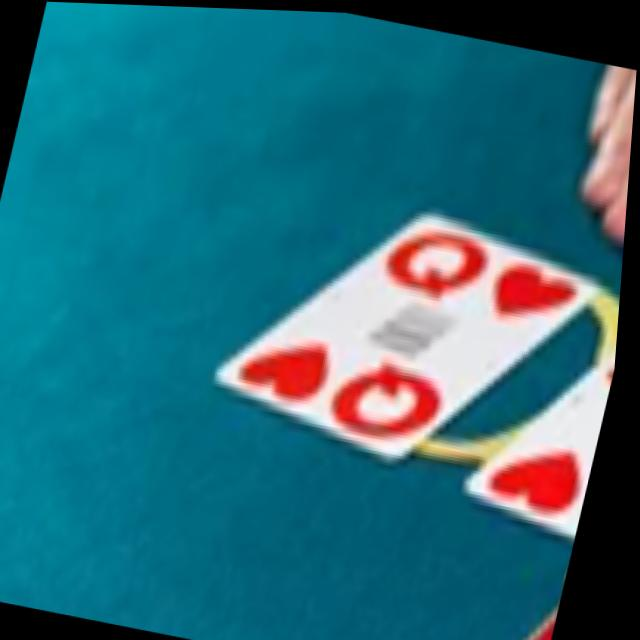Card-Q: (221, 206, 606, 457)
